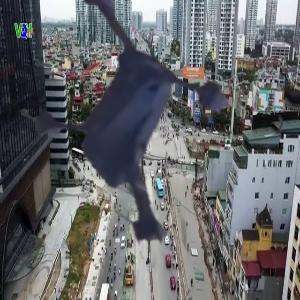drone: (6, 4, 295, 293)
